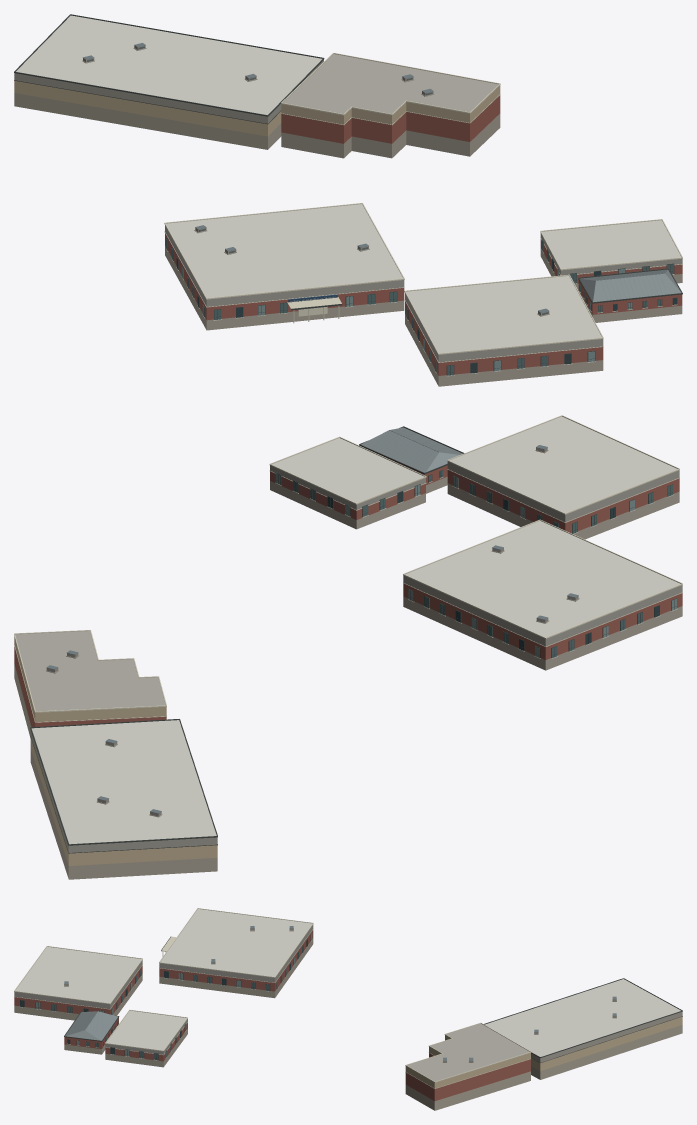
Rendered from oxford-lafayette-applied-technology.glb.
3 renders of one model, top to bottom at view 1: azimuth 30°, elevation 25°; view 2: azimuth 150°, elevation 25°; view 3: azimuth 270°, elevation 25°, orthographic. The views are drawn at different scales.
Parts seen in each view (by area): view 1: 599102034 | Roof, 599102034 | Facades, 599102037 | Roof, 599102034 | Shell and foundation, 599102038 | Shell and foundation; view 2: 599102034 | Roof, 599102037 | Roof, 599102034 | Facades, 599102034 | Shell and foundation, 599102038 | Shell and foundation; view 3: 599102034 | Roof, 599102034 | Facades, 599102037 | Roof, 599102034 | Shell and foundation, 599102038 | Shell and foundation.
Part boxes in pixels (x1,y1,x2,y2): 599102034 | Roof: [14, 15, 682, 386]; 599102034 | Facades: [14, 14, 682, 376]; 599102037 | Roof: [283, 54, 681, 302]; 599102034 | Shell and foundation: [165, 95, 682, 375]; 599102038 | Shell and foundation: [14, 80, 500, 136]; 599102034 | Roof: [14, 416, 682, 879]; 599102037 | Roof: [15, 427, 462, 711]; 599102034 | Facades: [14, 415, 682, 853]; 599102034 | Shell and foundation: [14, 453, 682, 726]; 599102038 | Shell and foundation: [14, 636, 217, 865]; 599102034 | Roof: [14, 909, 682, 1110]; 599102034 | Facades: [14, 908, 682, 1088]; 599102037 | Roof: [65, 1011, 529, 1081]; 599102034 | Shell and foundation: [14, 930, 530, 1100]; 599102038 | Shell and foundation: [405, 1016, 682, 1088].
Size of the model in its own units: 111 by 17.75 by 205.
